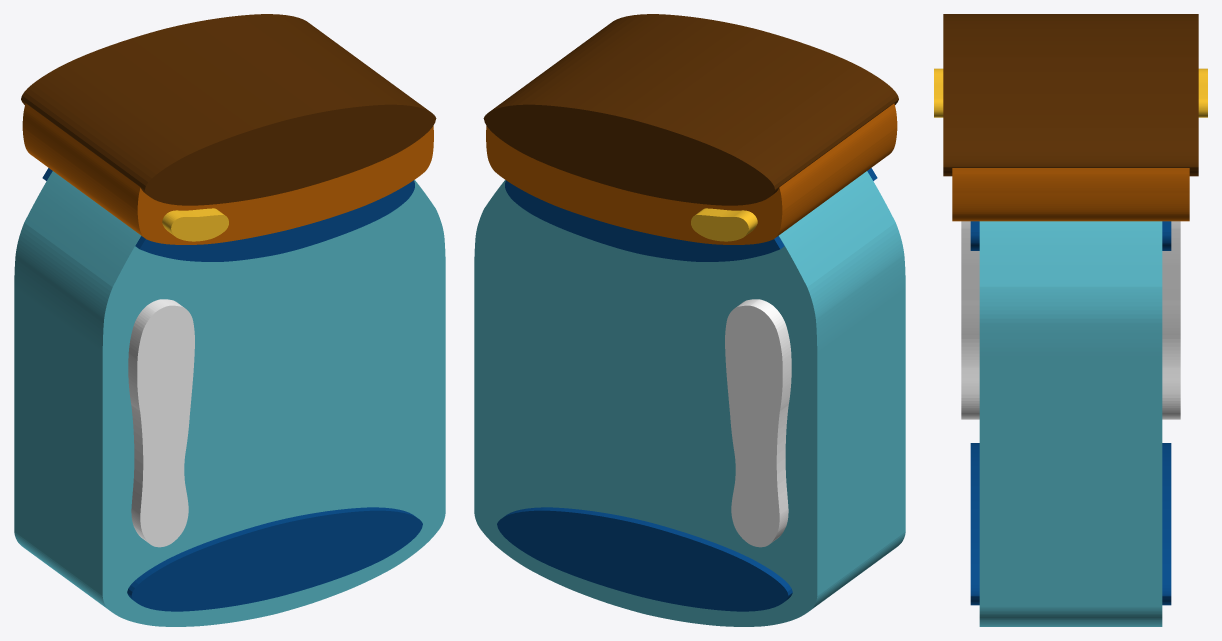
Rendered from U+1FAD9.obj.
3 views of the same model, side by side, from view 1: azimuth 30°, elevation 25°; view 2: azimuth 150°, elevation 25°; view 3: azimuth 270°, elevation 25° (orthographic). The views are drawn at different scales.
Parts seen in each view (by area): view 1: U+1FAD9_layer00_obj00, U+1FAD9_layer04_obj00, U+1FAD9_layer01_obj00, U+1FAD9_layer03_obj00, U+1FAD9_layer02_obj00, U+1FAD9_layer01_obj01, U+1FAD9_layer05_obj00; view 2: U+1FAD9_layer00_obj00, U+1FAD9_layer04_obj00, U+1FAD9_layer01_obj00, U+1FAD9_layer03_obj00, U+1FAD9_layer02_obj00, U+1FAD9_layer01_obj01, U+1FAD9_layer05_obj00; view 3: U+1FAD9_layer00_obj00, U+1FAD9_layer04_obj00, U+1FAD9_layer03_obj00, U+1FAD9_layer02_obj00, U+1FAD9_layer01_obj00, U+1FAD9_layer05_obj00, U+1FAD9_layer01_obj01.
Boxes of the visible parts, x1,y1,x2,y2 form: U+1FAD9_layer00_obj00: (14, 171, 445, 626); U+1FAD9_layer04_obj00: (21, 14, 436, 205); U+1FAD9_layer01_obj00: (127, 507, 422, 611); U+1FAD9_layer03_obj00: (22, 103, 433, 244); U+1FAD9_layer02_obj00: (128, 299, 194, 547); U+1FAD9_layer01_obj01: (42, 168, 414, 261); U+1FAD9_layer05_obj00: (162, 208, 228, 241); U+1FAD9_layer00_obj00: (474, 171, 905, 626); U+1FAD9_layer04_obj00: (483, 14, 898, 205); U+1FAD9_layer01_obj00: (497, 507, 792, 611); U+1FAD9_layer03_obj00: (486, 103, 897, 244); U+1FAD9_layer02_obj00: (725, 299, 791, 547); U+1FAD9_layer01_obj01: (505, 168, 877, 261); U+1FAD9_layer05_obj00: (691, 208, 757, 241); U+1FAD9_layer00_obj00: (979, 221, 1162, 626); U+1FAD9_layer04_obj00: (943, 14, 1198, 176); U+1FAD9_layer03_obj00: (952, 168, 1189, 221); U+1FAD9_layer02_obj00: (961, 221, 1180, 419); U+1FAD9_layer01_obj00: (970, 443, 1171, 605); U+1FAD9_layer05_obj00: (934, 68, 1207, 117); U+1FAD9_layer01_obj01: (970, 221, 1171, 250).
Bounding box in the file's own units: 0.2238 × 0.3172 × 0.15.
